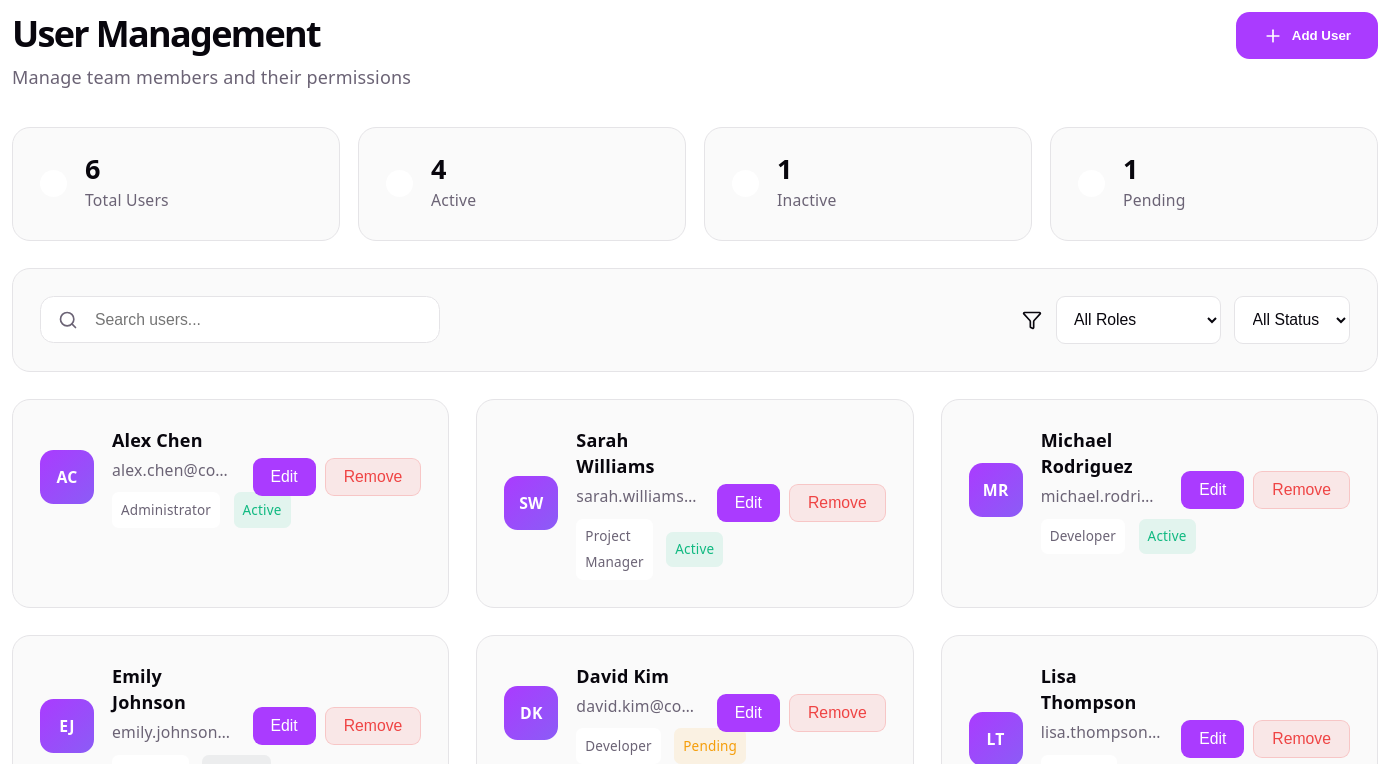
Test case: UserManagement › Filter functionality (P0) › filters users by status selection
Select "Active" in the 2nd dropdown at (1292, 320), box [1234,296,1350,344]
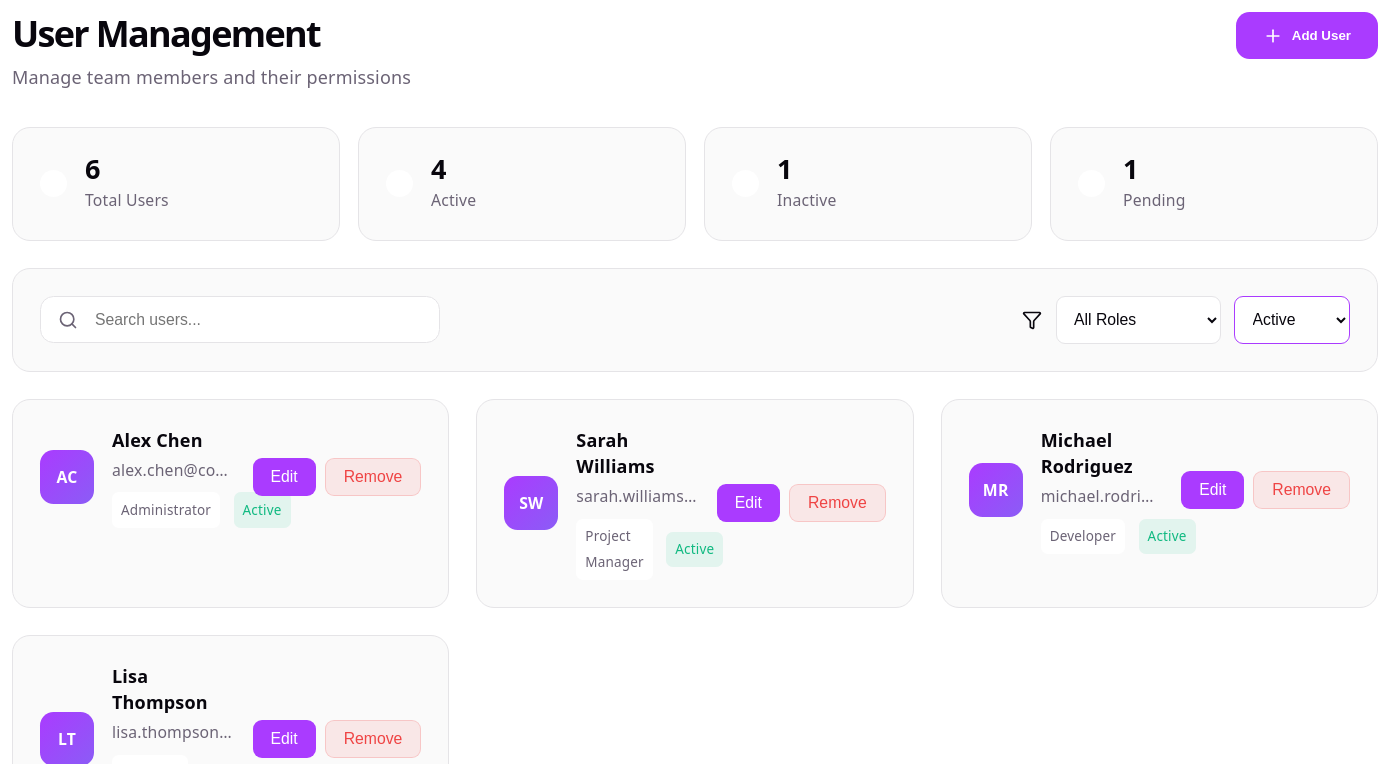
Expected: the heading "Alex Chen" is shown, [112,428,203,452]
Result: the heading "Emily Johnson" is gone
Result: the heading "David Kim" is gone
